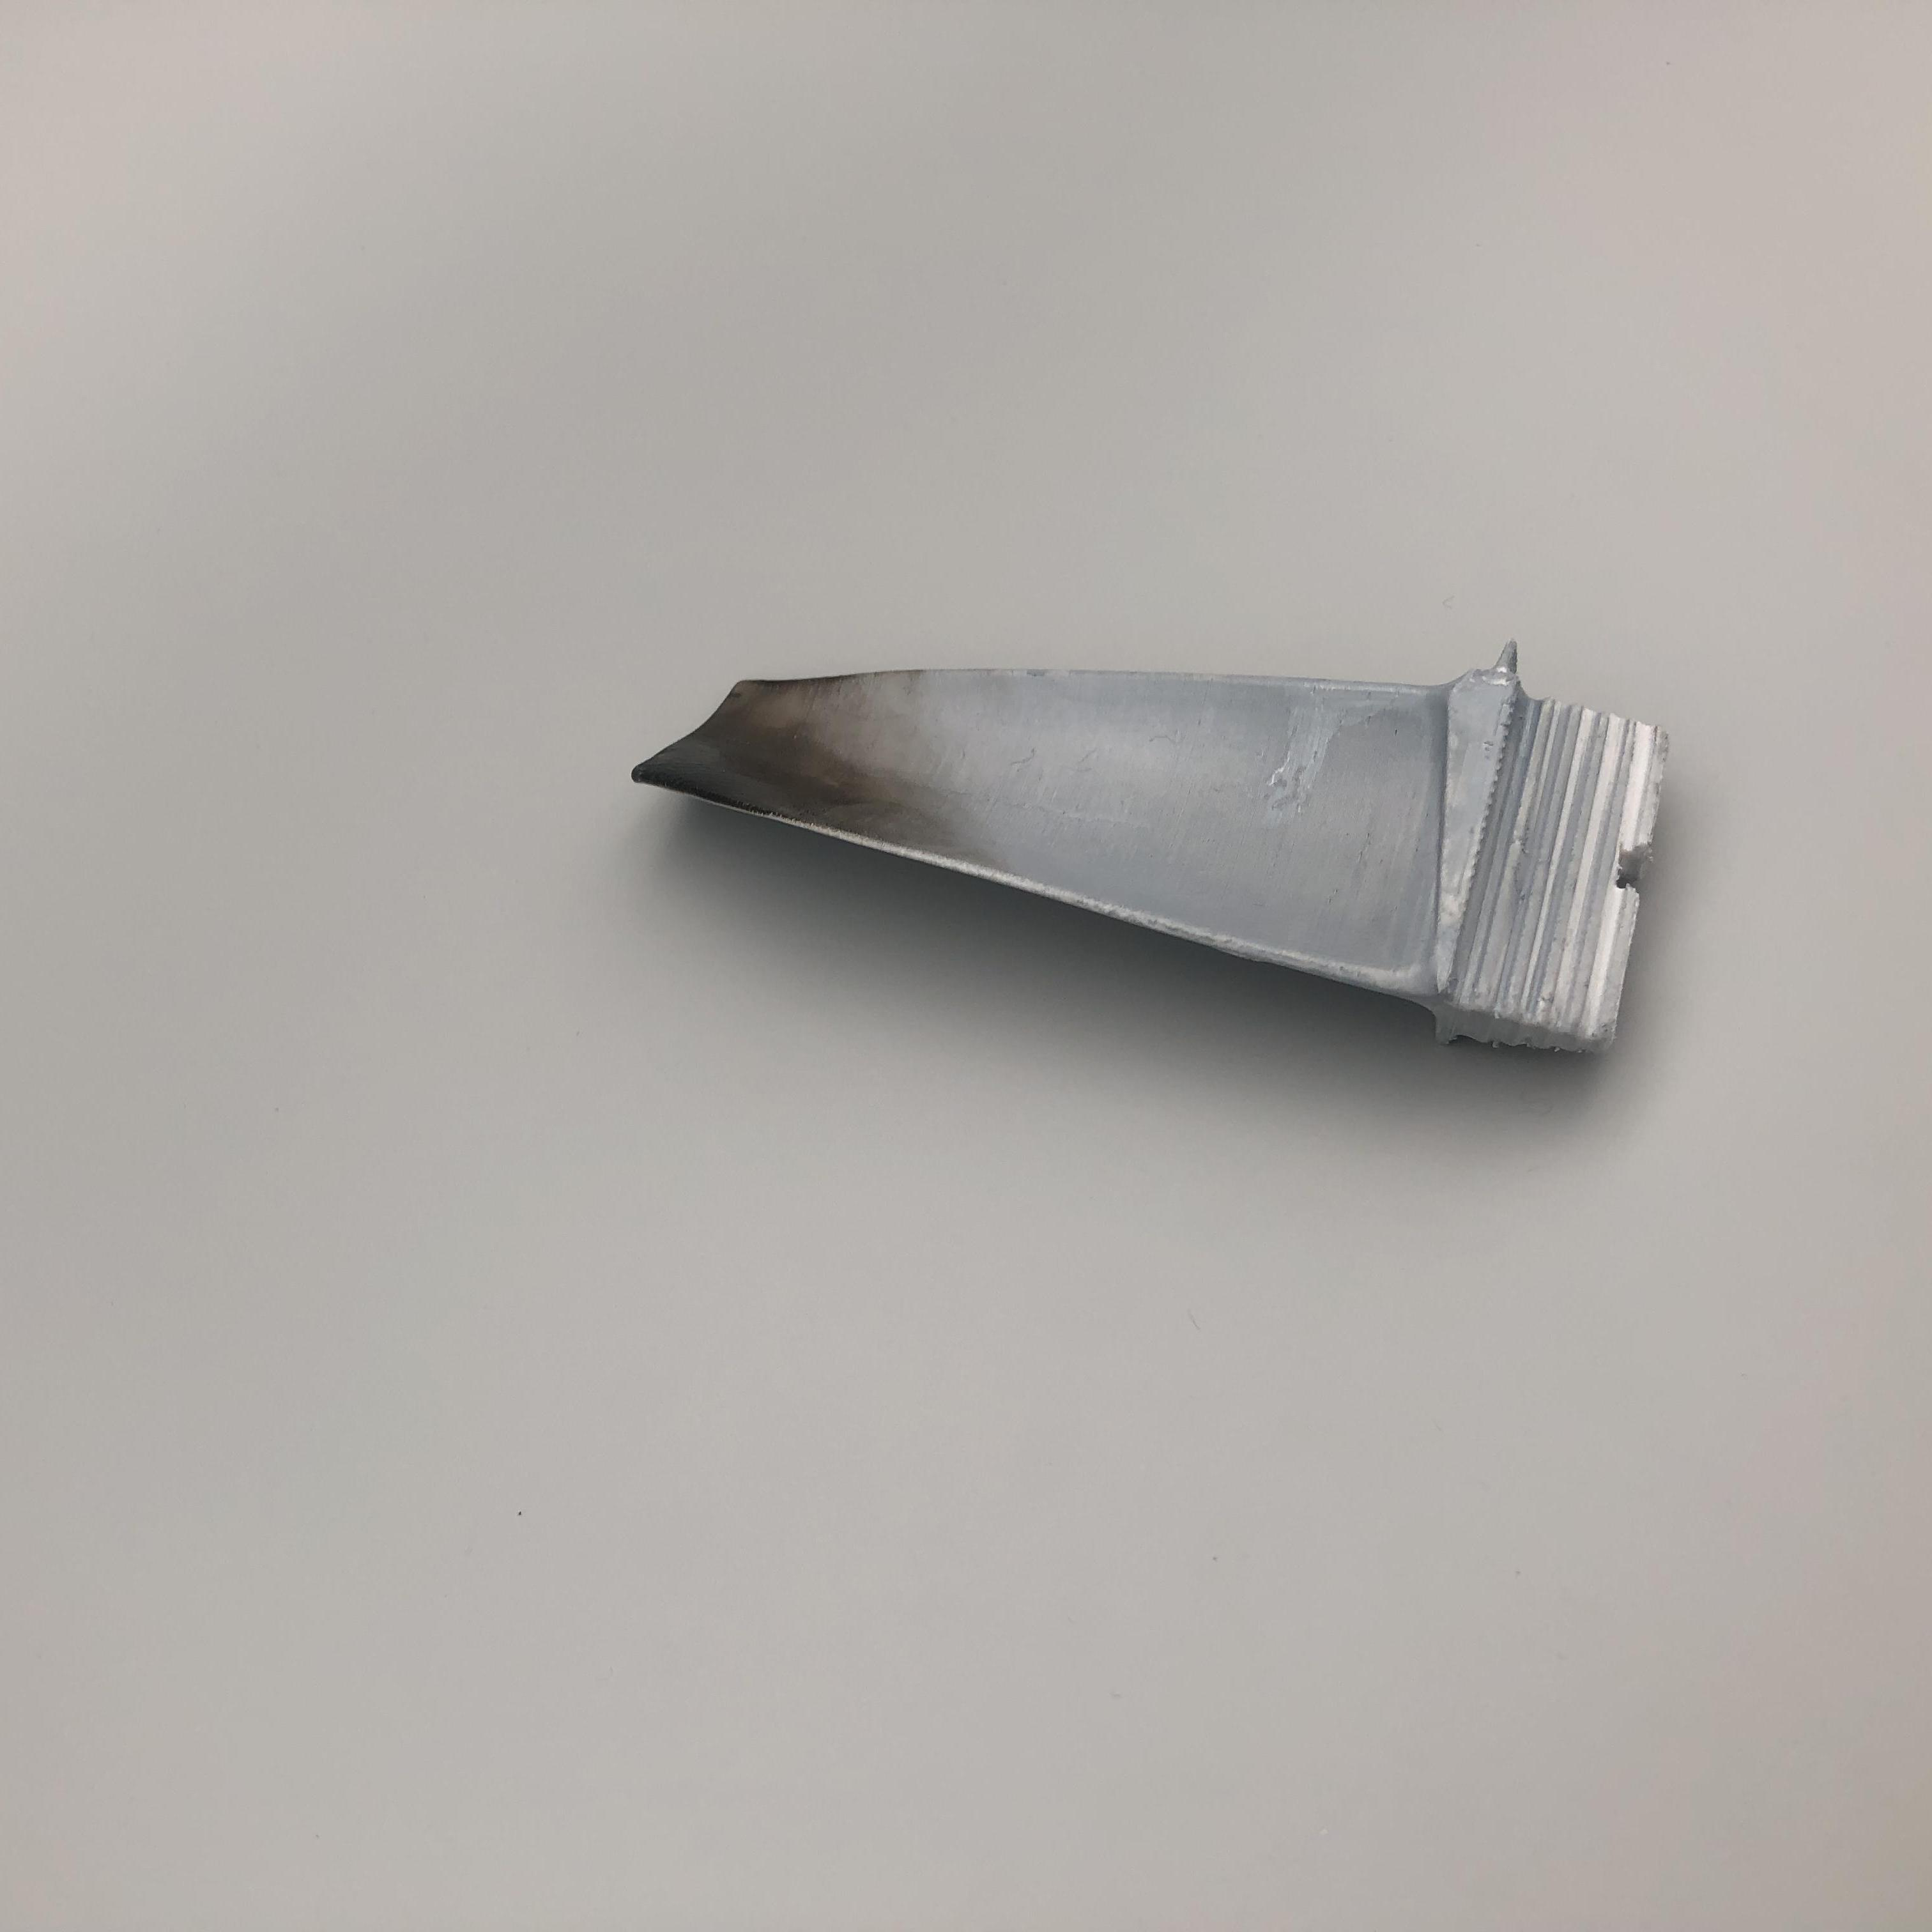ablation: (669, 734, 913, 826)
